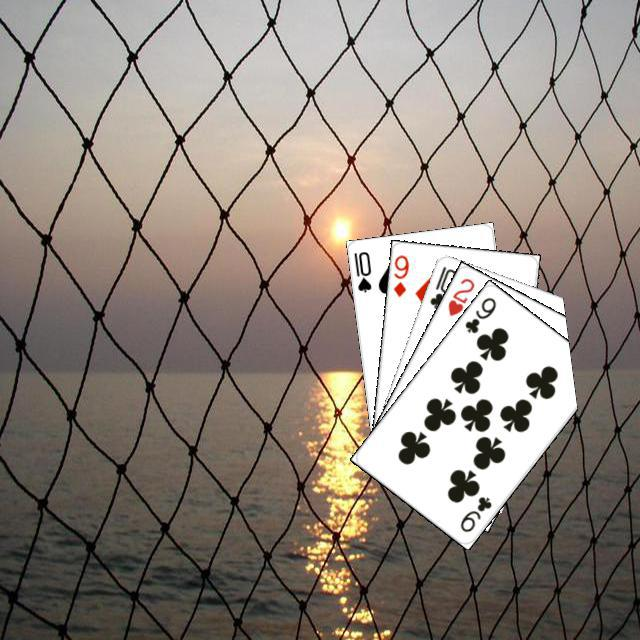10c: (425, 261, 458, 310)
10s: (349, 246, 373, 294)
2h: (443, 273, 476, 318)
9c: (455, 491, 494, 534), (460, 292, 498, 335)
9d: (389, 250, 410, 299)
